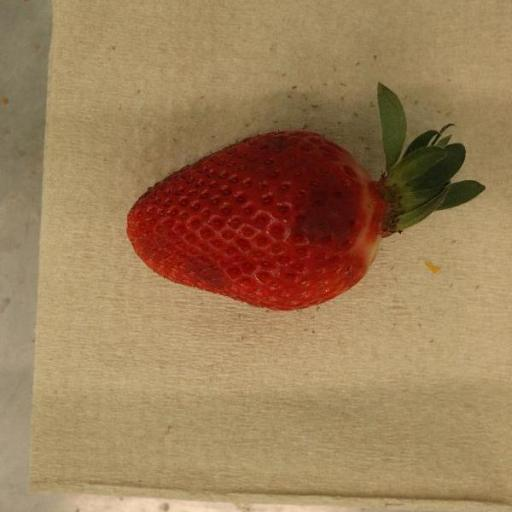Strawberry: (126, 83, 487, 312)
